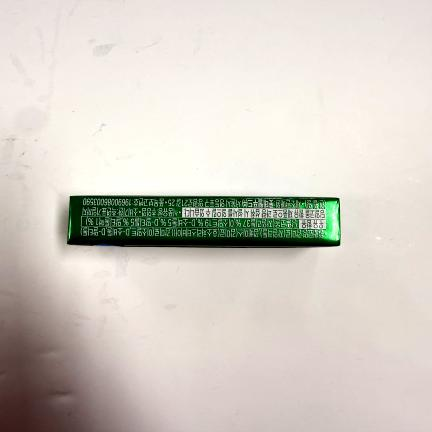gum_green: (66, 196, 342, 244)
